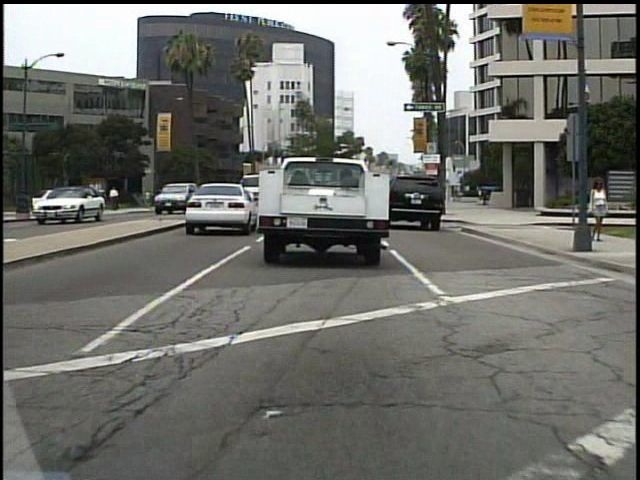person: (586, 173, 609, 246), (102, 188, 117, 219), (111, 185, 123, 213), (145, 187, 154, 208)
